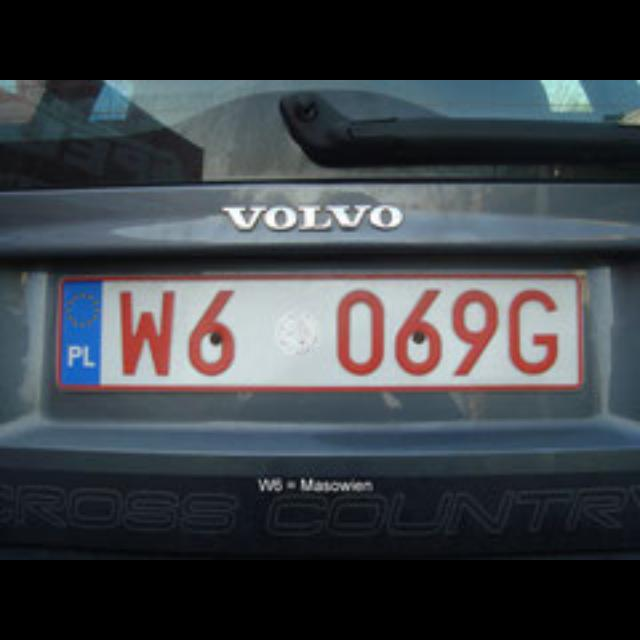pl_license_plate: (56, 274, 582, 384)
